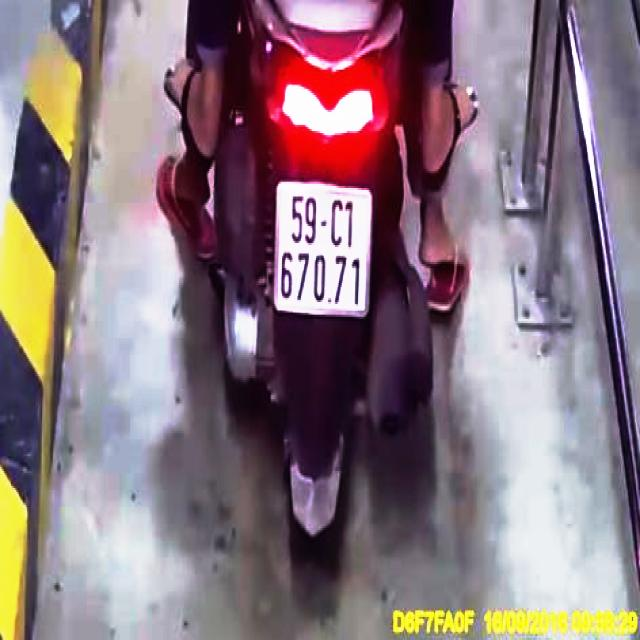license_plate: (275, 185, 370, 318)
